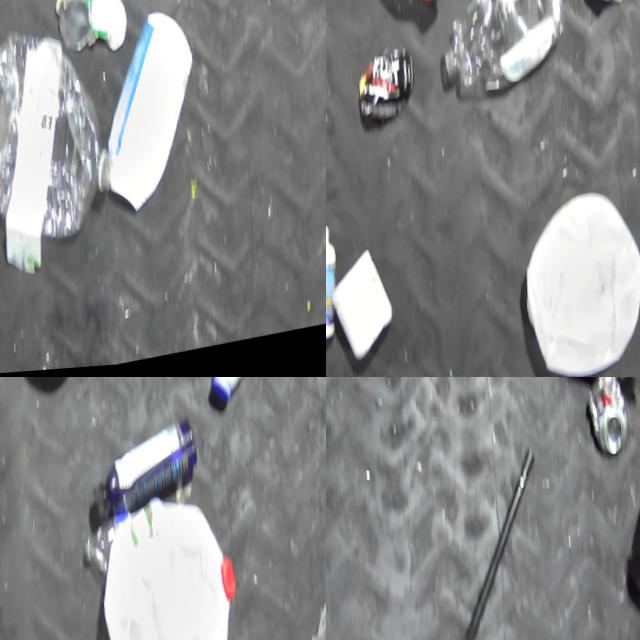can: (574, 377, 640, 474), (49, 0, 139, 65), (355, 51, 423, 127)
milk_jug: (88, 485, 255, 640), (517, 185, 640, 377)
plastic_bottle: (432, 0, 578, 109)
